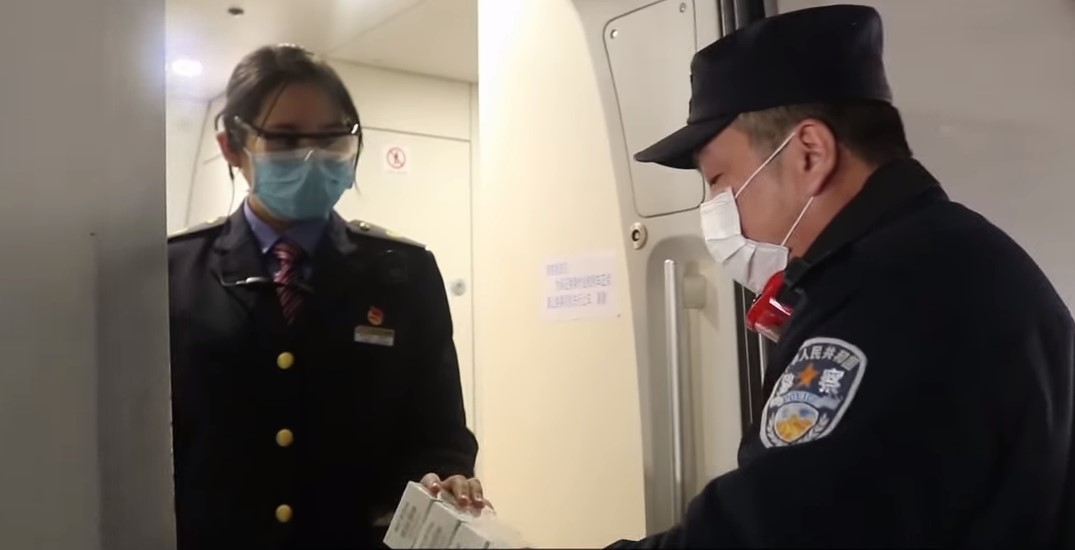face_with_mask: (638, 6, 892, 289), (218, 41, 367, 235)
